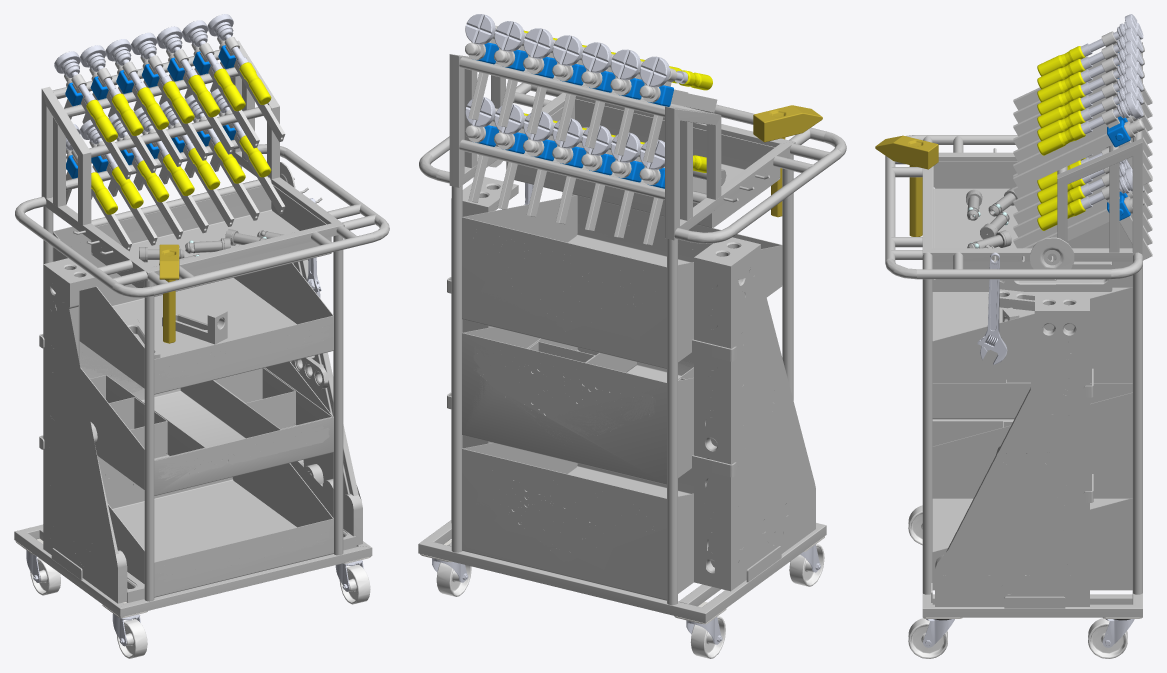
Rendered from Tool Cart.fbx.
3 views of the same model, side by side, from view 1: azimuth 30°, elevation 25°; view 2: azimuth 150°, elevation 25°; view 3: azimuth 270°, elevation 25° (orthographic). The views are drawn at different scales.
Parts seen in each view (by area): view 1: Body3.020, Body11, Body13, Body12, Body37, Body3.019, Body19, Body7, Body8, Body15, Body1.033, Body18 (+58 smaller); view 2: Body3.020, Body13, Body11, Body12, Body37, Body10, Body2, Body9, Body17, Body36, Body31, Body19 (+33 smaller); view 3: Body3.019, Body17, Body16, Body1.032, Body15, Body37, Body10, Body8, Body13, Body3, Body1.012, Hammer (+49 smaller).
Part boxes in pixels (box(x1,y1,x2,y2)): Body3.020: box(43, 258, 144, 603); Body11: box(97, 456, 333, 597); Body13: box(53, 226, 333, 394); Body12: box(79, 341, 333, 495); Body37: box(91, 186, 331, 296); Body3.019: box(290, 259, 362, 545); Body19: box(53, 231, 144, 387); Body7: box(144, 280, 154, 601); Body8: box(333, 235, 343, 555); Body15: box(232, 463, 333, 527); Body1.033: box(180, 367, 332, 438); Body18: box(80, 367, 144, 489); Body3.020: box(694, 237, 815, 591); Body13: box(462, 195, 782, 368); Body11: box(462, 448, 693, 600); Body12: box(462, 333, 693, 484); Body37: box(506, 98, 780, 228); Body10: box(451, 185, 462, 552); Body2: box(418, 542, 705, 623); Body9: box(667, 238, 677, 605); Body17: box(463, 195, 577, 242); Body36: box(459, 139, 664, 199); Body31: box(459, 57, 664, 117); Body19: box(678, 245, 782, 361); Body3.019: box(935, 294, 1089, 606); Body17: box(932, 287, 1132, 378); Body16: box(932, 392, 1132, 484); Body1.032: box(932, 379, 1132, 419); Body15: box(932, 498, 1132, 589); Body37: box(932, 166, 1056, 280); Body10: box(1132, 264, 1142, 594); Body8: box(922, 279, 932, 594); Body13: box(932, 287, 1132, 379); Body3: box(922, 604, 1142, 617); Body1.012: box(932, 261, 1112, 291); Hammer: box(875, 135, 938, 236).
Size of the model in its own units: 80.3 by 147 by 67.99.
